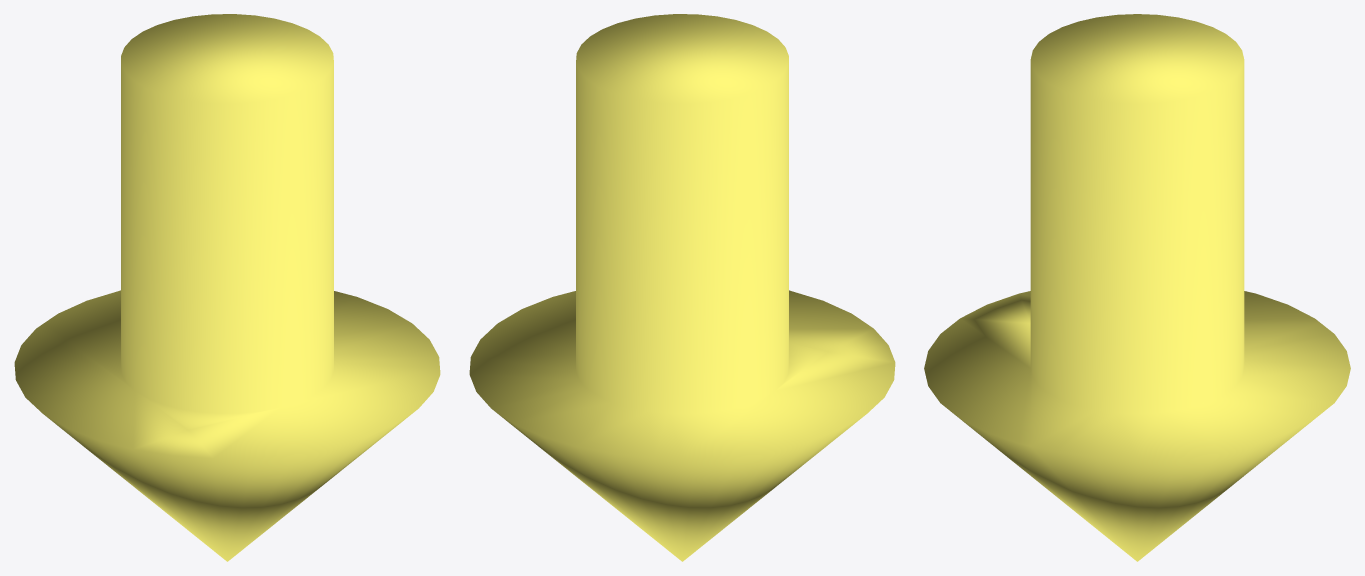
Rendered from yellowArrow.fbx.
3 renders of one model, left to right at view 1: azimuth 30°, elevation 25°; view 2: azimuth 150°, elevation 25°; view 3: azimuth 270°, elevation 25°, orthographic.
Visible parts, largest first — view 1: group_0_16768282; view 2: group_0_16768282; view 3: group_0_16768282.
Part boxes in pixels (x1,y1,x2,y2): group_0_16768282: [14, 14, 440, 561]; group_0_16768282: [469, 14, 895, 561]; group_0_16768282: [924, 14, 1350, 561].
Size of the model in its own units: 2000 by 2600 by 2000.
